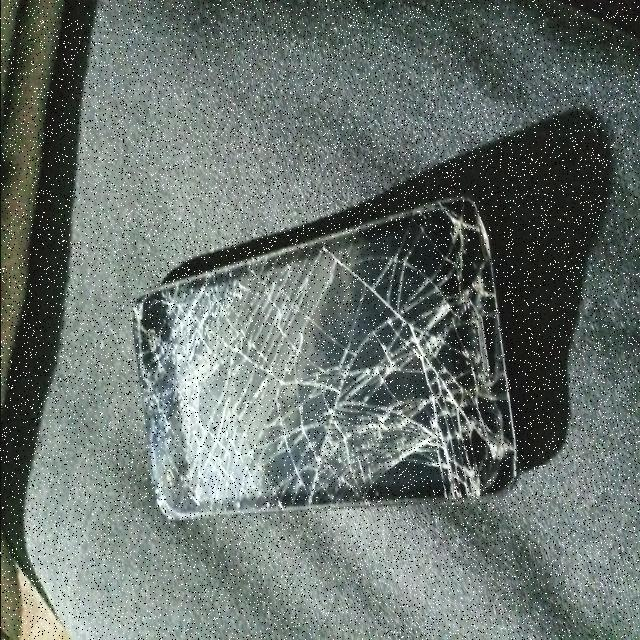Crack: (122, 184, 538, 550)
